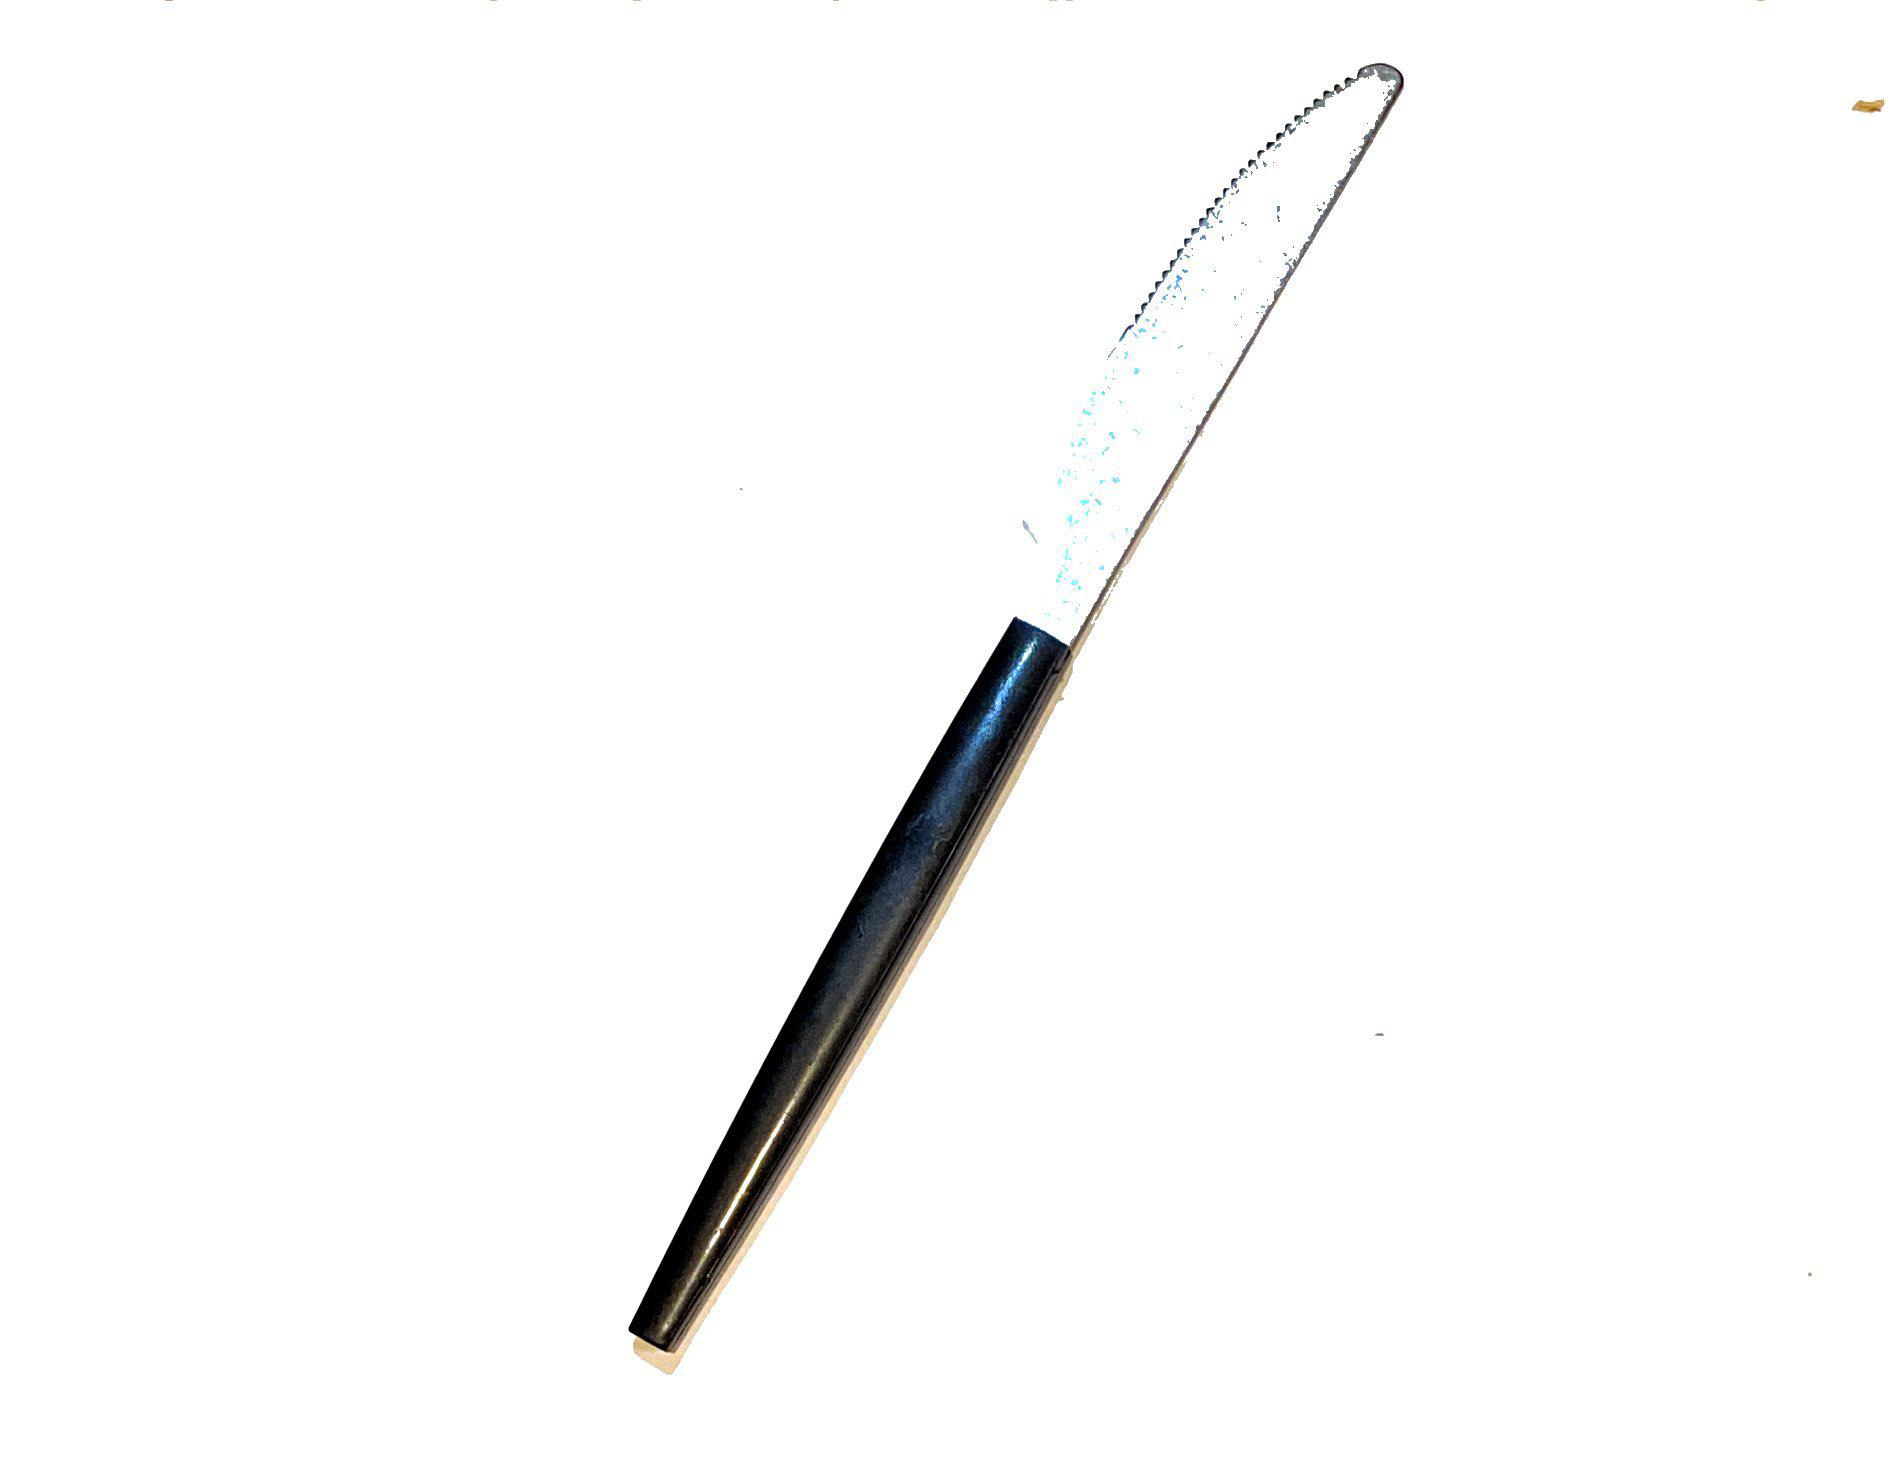Knife: (306, 35, 1507, 1425)
